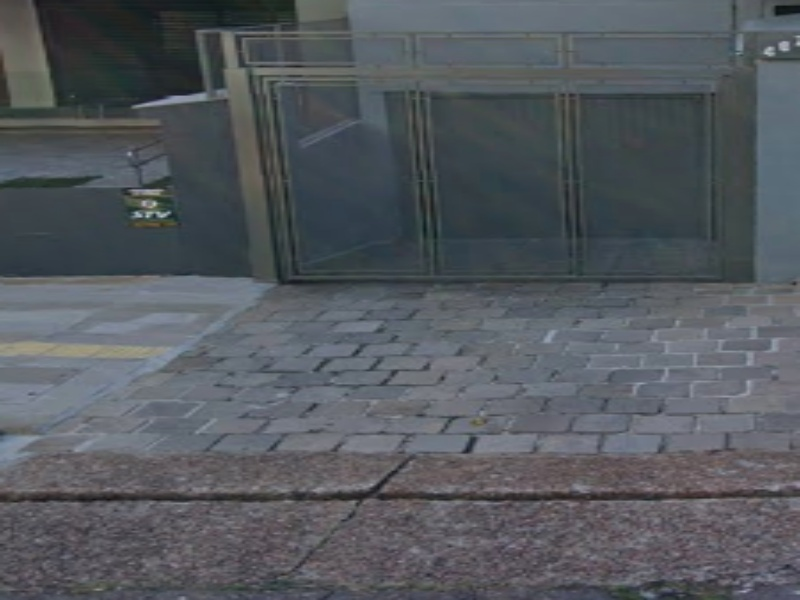g45: (16, 431, 778, 563)
